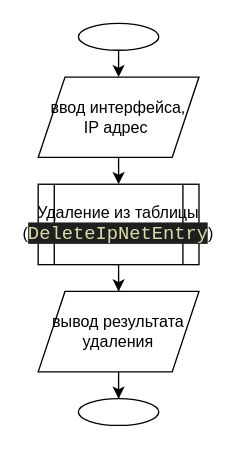
Some shapes in this 236 by 449 pixel diagram are drawn without their labels. The centre of each missing label's shape, as x and y in pixels:
"конец" belongs at (118,411).
"начало" belongs at (118,36).
